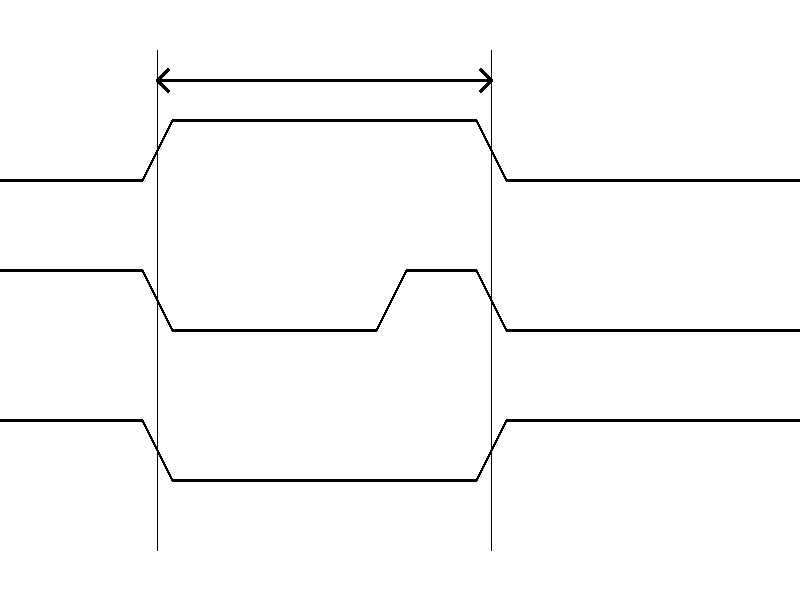double_arrow: (157, 65, 491, 95)
